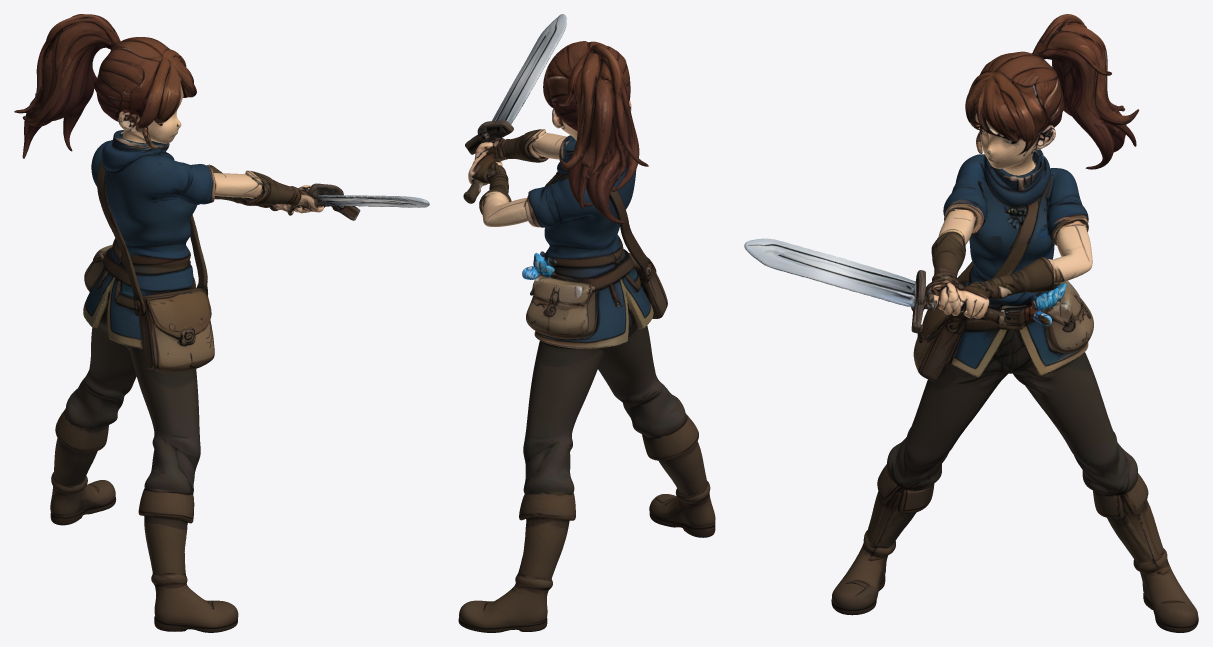
File: fantasy-swordswoman.glb
3 views of the same model, side by side, from view 1: azimuth 30°, elevation 25°; view 2: azimuth 150°, elevation 25°; view 3: azimuth 270°, elevation 25° (orthographic). The views are drawn at different scales.
Visible parts, largest first — view 1: tripo_node_fa1cde0f-aca3-42e7-84ff-d8f06e3b543a; view 2: tripo_node_fa1cde0f-aca3-42e7-84ff-d8f06e3b543a; view 3: tripo_node_fa1cde0f-aca3-42e7-84ff-d8f06e3b543a.
Part boxes in pixels (x1,y1,x2,y2): tripo_node_fa1cde0f-aca3-42e7-84ff-d8f06e3b543a: (14, 14, 429, 632); tripo_node_fa1cde0f-aca3-42e7-84ff-d8f06e3b543a: (458, 14, 715, 632); tripo_node_fa1cde0f-aca3-42e7-84ff-d8f06e3b543a: (744, 14, 1198, 632).
Size of the model in its own units: 0.5045 by 1 by 0.7174.
Materials: 1 (1 with a texture image).
